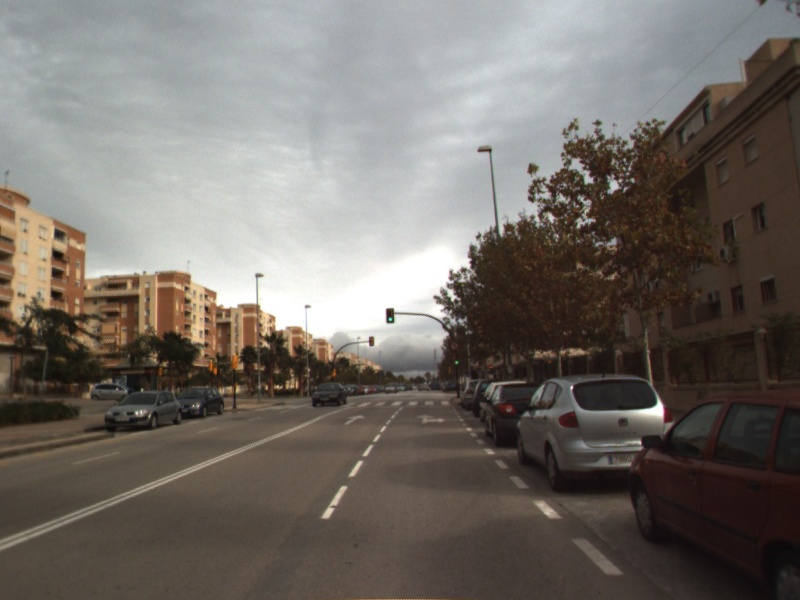STRAIGHT: (341, 412, 368, 427)
STRAIGHT_RIGHT: (414, 412, 448, 426)
